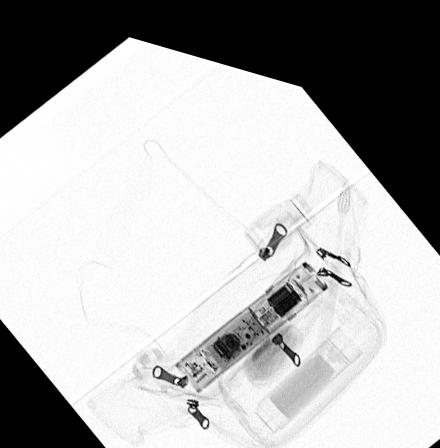Baton: (174, 241, 330, 383)
